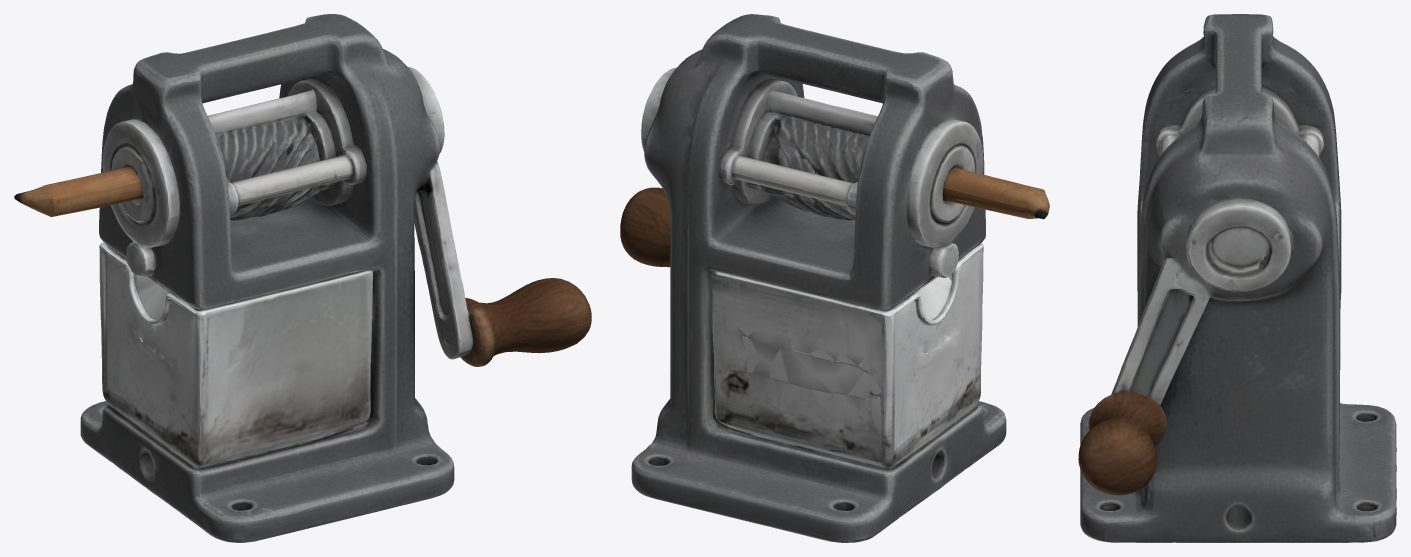
File: parts.glb
3 views of the same model, side by side, from view 1: azimuth 30°, elevation 25°; view 2: azimuth 150°, elevation 25°; view 3: azimuth 270°, elevation 25° (orthographic).
Size of the model in its own units: 0.2803 by 0.23 by 0.1572.
8 materials, 8 textured.
